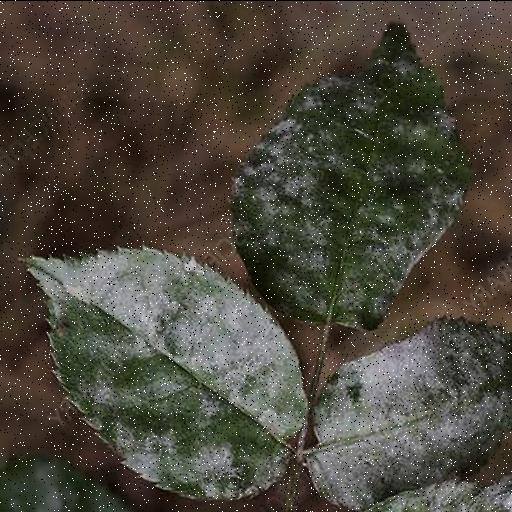powdery_mildew: (231, 23, 470, 327), (26, 248, 306, 498), (306, 318, 512, 508)
